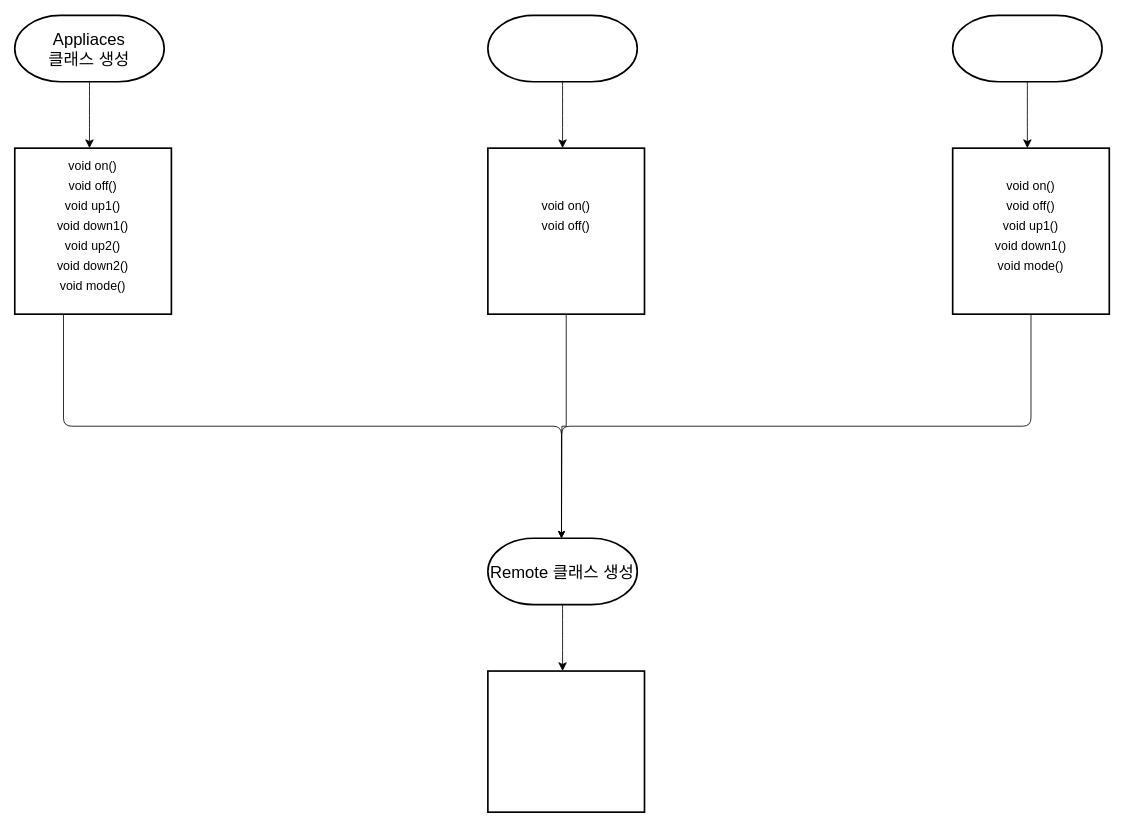
Some shapes in this 1125 by 827 pixel diagram are drawn without their labels. The centre of each missing label's shape, as x and y in pixels:
Light 클래스 생성: point (562, 48)
void on() void off() void resister() void remove(): point (566, 741)
Watch 클래스 생성: point (1026, 48)
